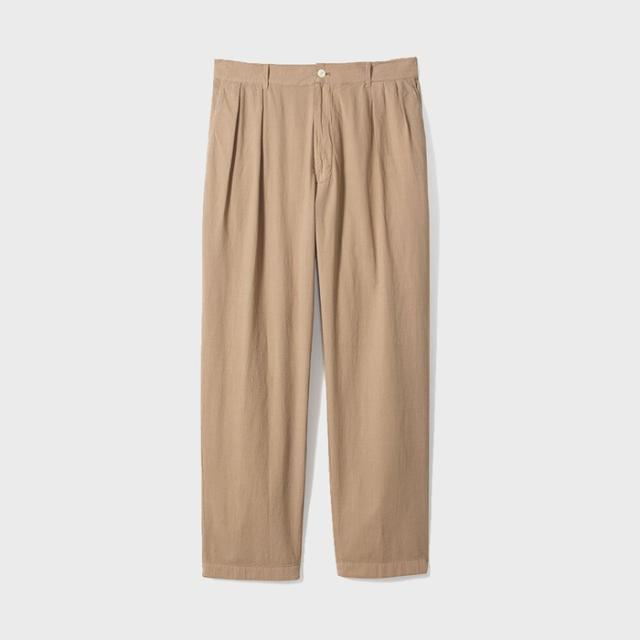long-pants: (200, 61, 438, 586)
